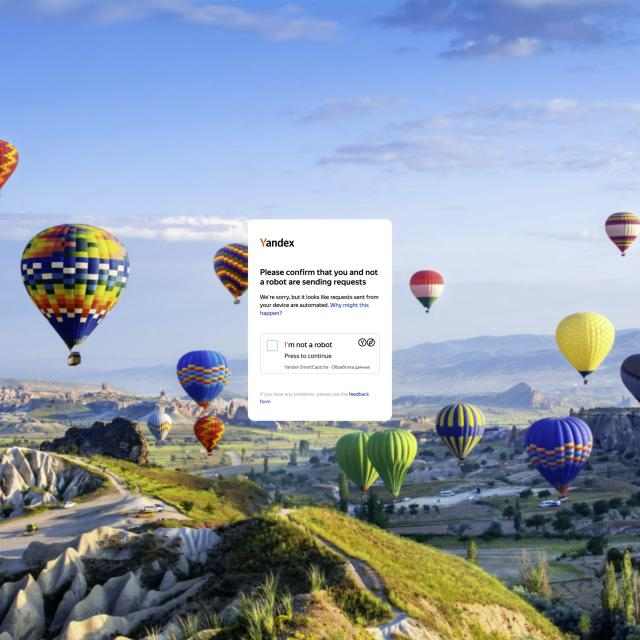logo: (260, 236, 296, 250)
